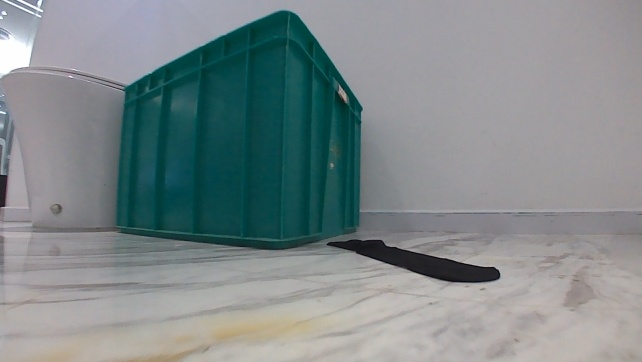socks: (325, 235, 502, 285)
toilet: (0, 63, 133, 233)
